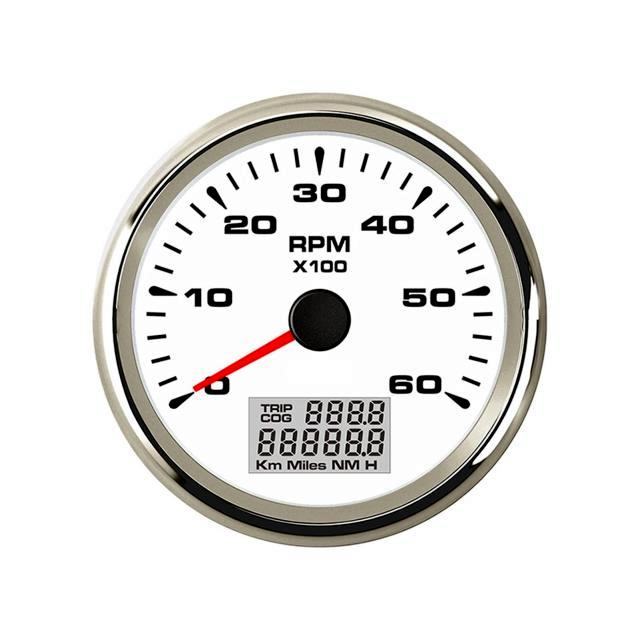Needle_Tip: (179, 371, 224, 407)
Needle_base: (285, 283, 360, 364)
max_value: (371, 363, 489, 413)
min_value: (162, 363, 286, 415)
